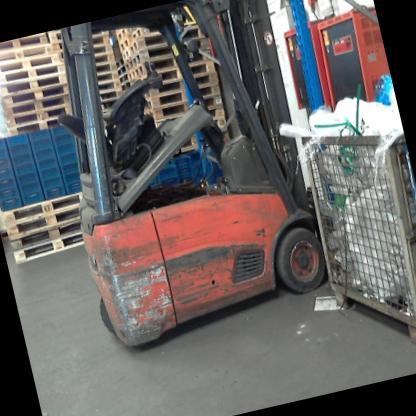forklift: (35, 0, 342, 355)
pallet: (130, 34, 213, 71), (5, 204, 85, 242), (127, 21, 207, 57), (2, 191, 86, 225), (134, 48, 214, 81), (8, 218, 84, 252), (12, 231, 87, 265), (142, 71, 221, 102), (147, 91, 226, 122), (146, 83, 223, 111), (0, 58, 67, 89), (146, 61, 217, 90), (154, 106, 225, 134), (0, 71, 68, 99), (0, 81, 68, 109), (48, 19, 110, 48), (2, 94, 70, 119), (0, 50, 62, 77), (51, 31, 112, 58), (6, 113, 71, 138), (0, 38, 58, 64), (4, 104, 69, 127), (59, 39, 115, 64), (0, 32, 49, 55), (97, 87, 125, 104), (129, 24, 153, 43), (173, 134, 198, 152), (94, 60, 121, 76), (105, 53, 129, 71), (97, 79, 123, 94), (94, 51, 118, 67), (109, 64, 129, 83), (96, 70, 121, 85), (111, 71, 131, 88), (118, 35, 134, 54), (115, 26, 131, 44), (115, 82, 133, 96), (120, 47, 132, 64), (123, 58, 136, 73), (127, 68, 139, 83)
small_load_carrier: (17, 180, 44, 198), (7, 140, 34, 157), (5, 131, 32, 148), (49, 122, 74, 140), (15, 170, 41, 187), (33, 146, 58, 163), (169, 154, 193, 171), (21, 190, 46, 206), (11, 151, 36, 167), (30, 136, 55, 152), (0, 196, 23, 213), (155, 164, 178, 181), (27, 127, 53, 142), (41, 175, 65, 191), (13, 161, 38, 176), (55, 141, 78, 157), (38, 166, 62, 181), (44, 185, 66, 201), (62, 169, 84, 185), (37, 157, 60, 172), (57, 151, 80, 166), (53, 132, 76, 147), (158, 176, 181, 191), (60, 160, 81, 176), (0, 185, 19, 201), (63, 182, 83, 197), (179, 174, 198, 189), (0, 176, 17, 191), (177, 165, 195, 178), (0, 166, 15, 180), (0, 155, 13, 170), (144, 181, 160, 193), (192, 162, 203, 175), (190, 152, 201, 165), (0, 144, 10, 158), (196, 172, 206, 186), (0, 135, 8, 148)
stillage: (295, 110, 416, 366), (394, 131, 416, 230)
